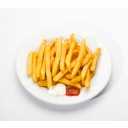frenchfries: (30, 35, 101, 89)
